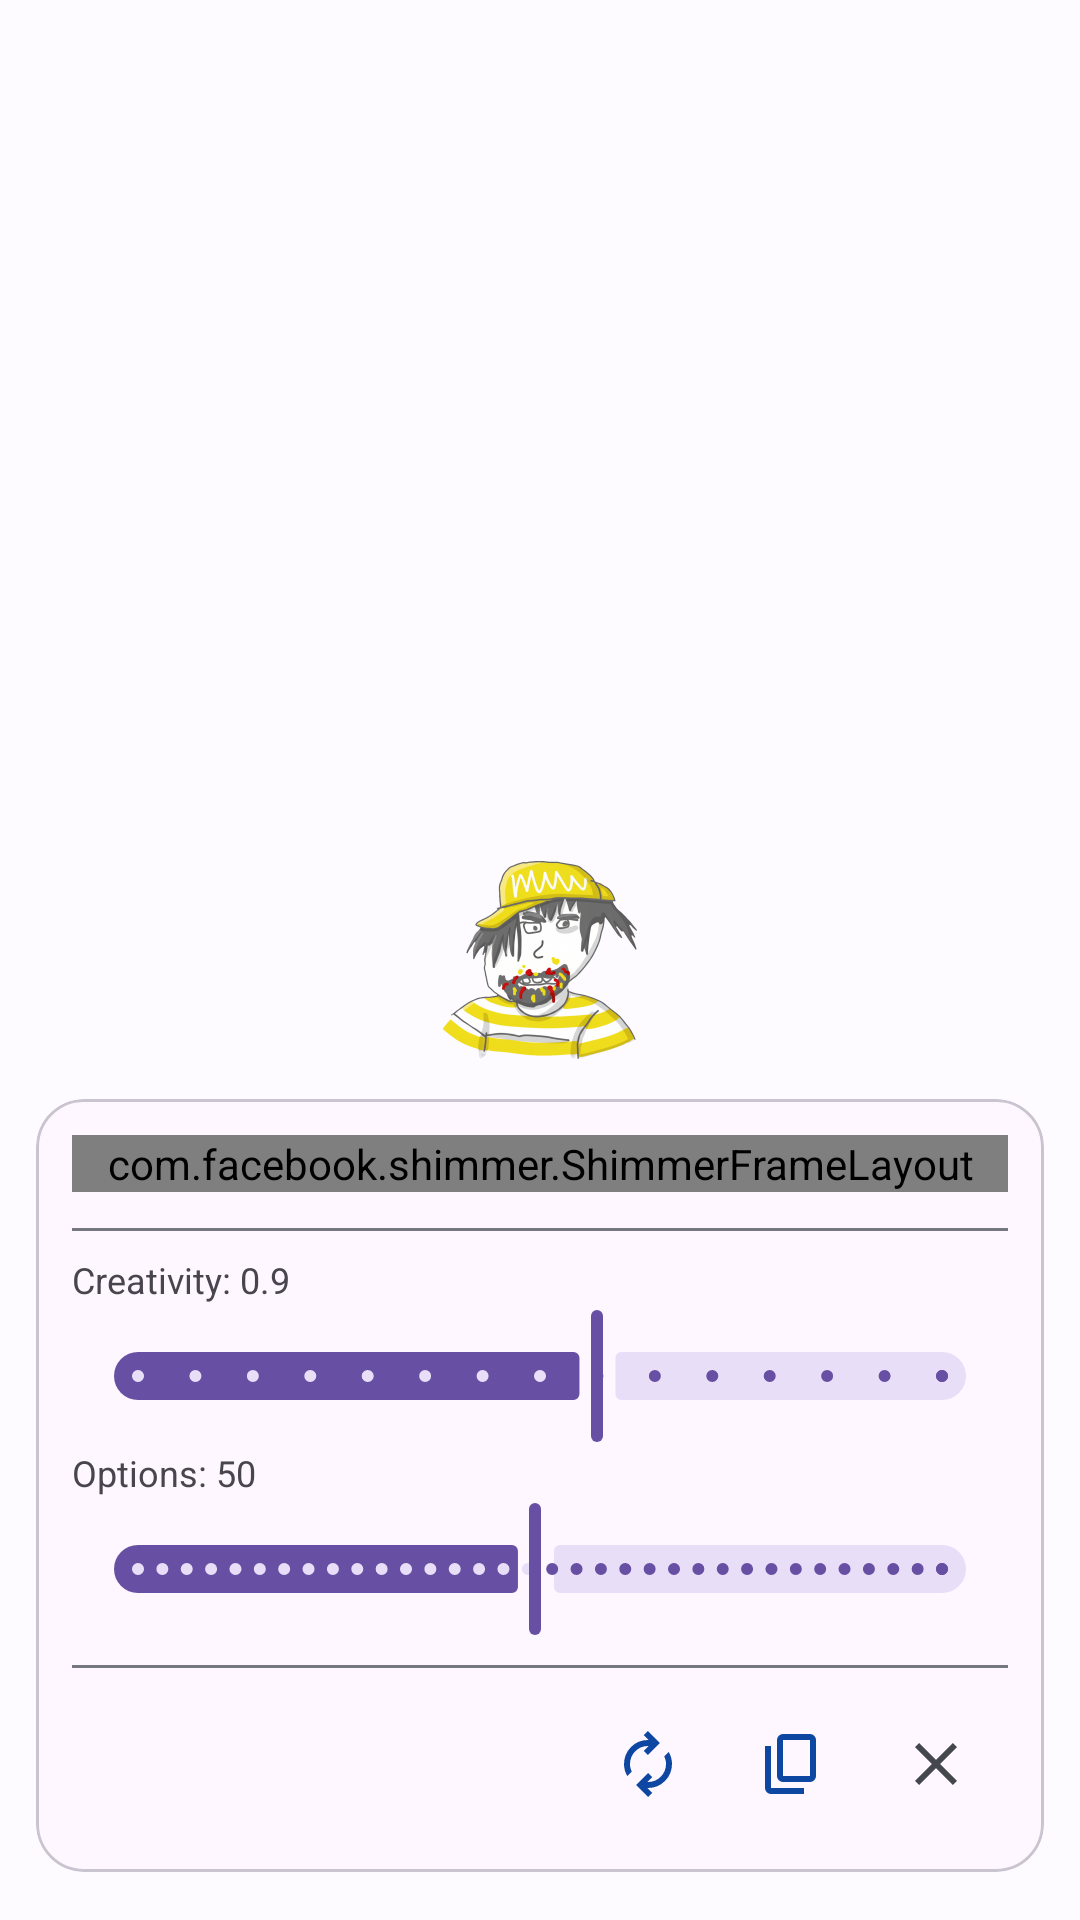

Icon bounding boxes for this 1080 x 1920 phone screenshot, format (x1, y1, x2, y2):
close: (915, 1743, 957, 1785)
regenerate: (624, 1731, 672, 1797)
